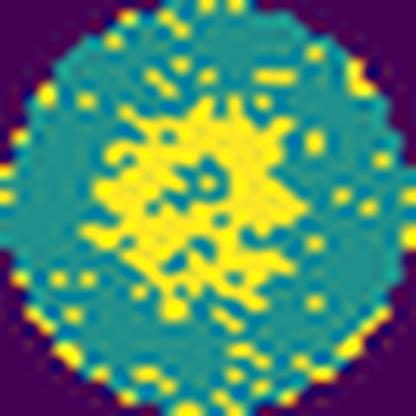Donut: (84, 79, 328, 307)
